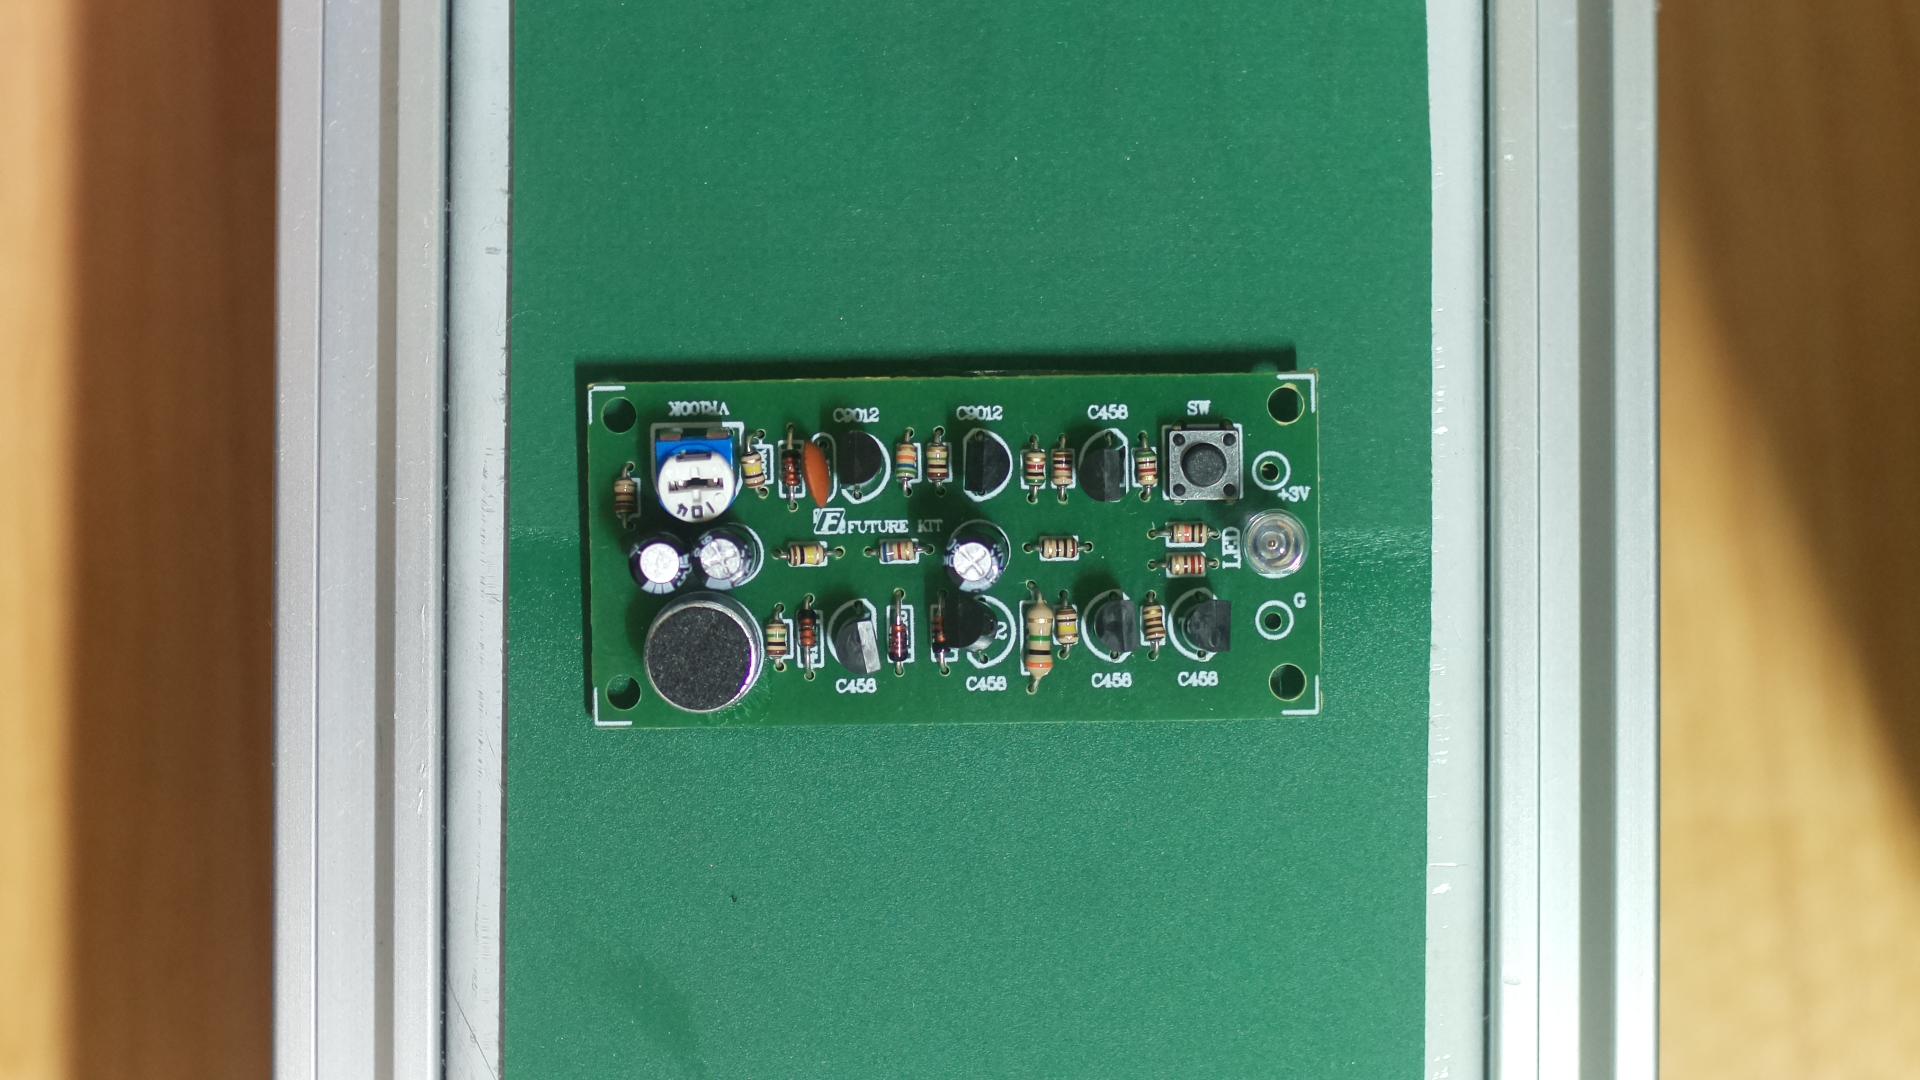A_Normal: (583, 368, 1328, 727)
